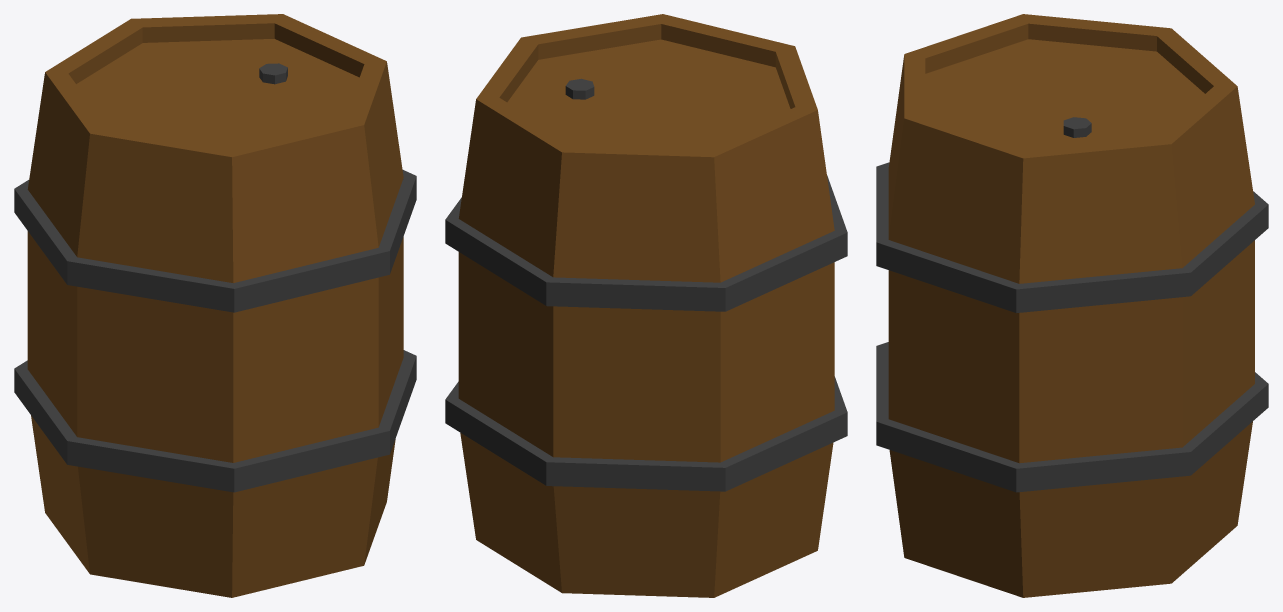
The model's file is light_barrel.fbx.
The picture shows the model from 3 angles, left to right: view 1: azimuth 30°, elevation 25°; view 2: azimuth 150°, elevation 25°; view 3: azimuth 270°, elevation 25°; orthographic projection.
Visible parts, largest first — view 1: Cylinder.003; view 2: Cylinder.003; view 3: Cylinder.003.
Part boxes in pixels (bbox=[...]): Cylinder.003: bbox=[14, 14, 416, 597]; Cylinder.003: bbox=[445, 14, 847, 597]; Cylinder.003: bbox=[876, 14, 1268, 597].
Size of the model in its own units: 178 by 215 by 174.
